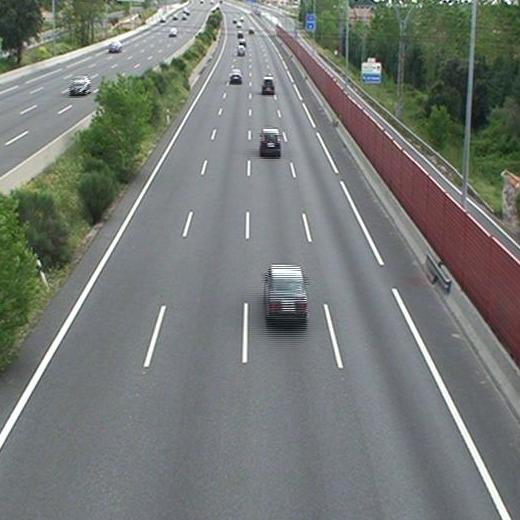car: (266, 265, 308, 320), (261, 129, 280, 154), (262, 78, 274, 94), (229, 69, 242, 81), (235, 46, 246, 55)
